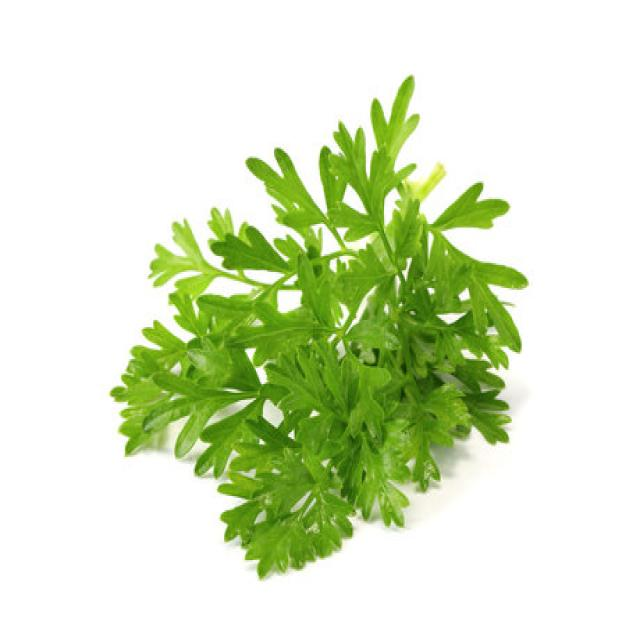Coriander Leaves: (109, 73, 528, 579)
